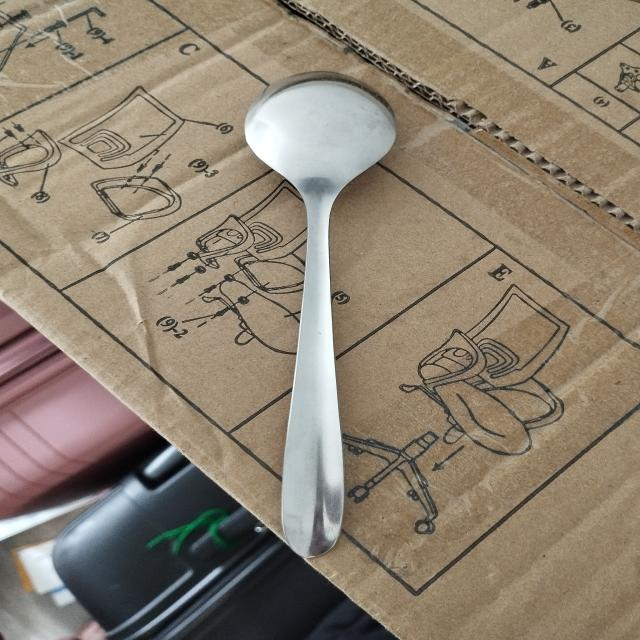Spoon: (232, 51, 413, 566)
